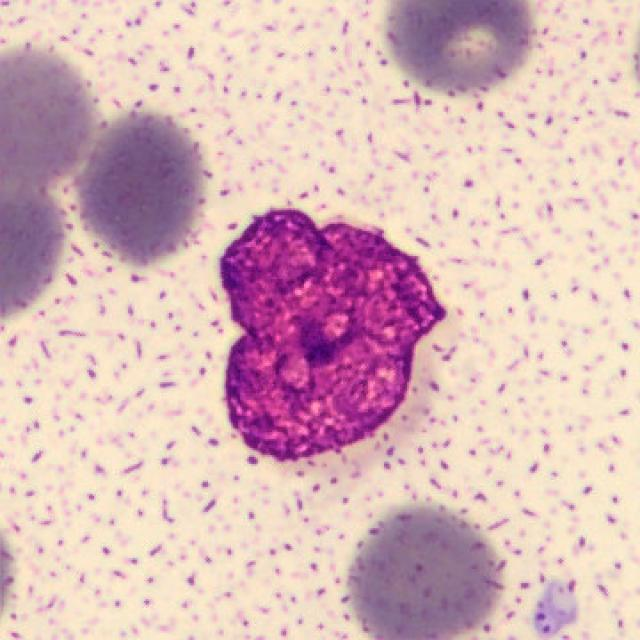Restos celulares: (219, 208, 446, 464)
